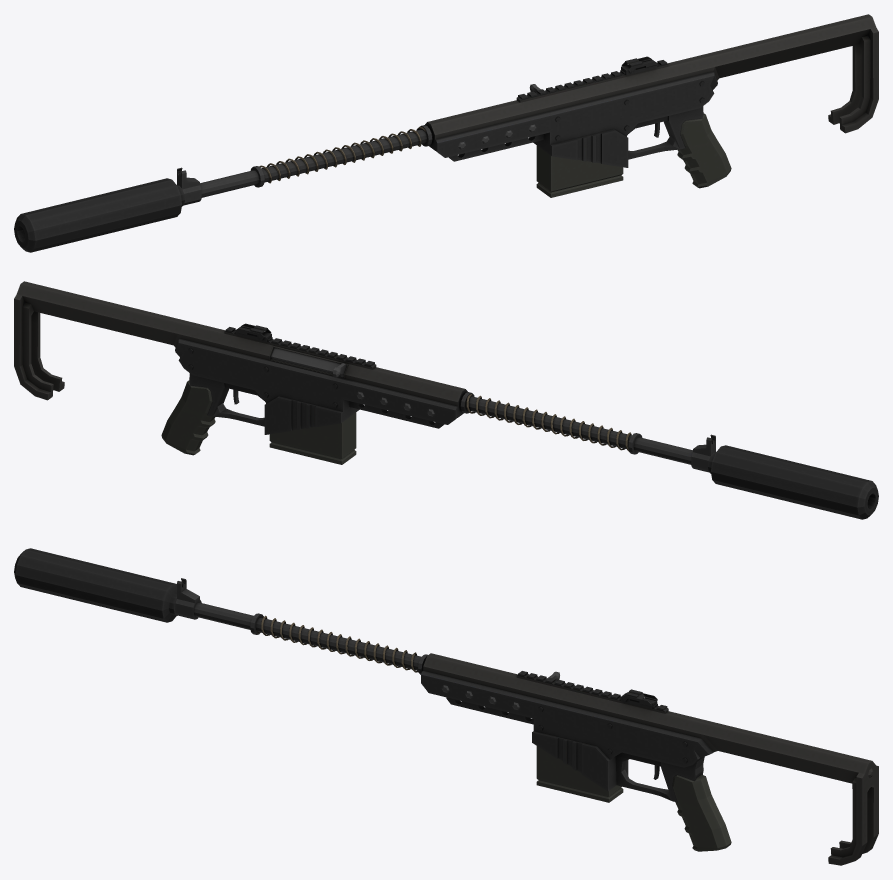
The model's file is Sniper_1.fbx.
3 views of the same model, one above another, from view 1: azimuth 30°, elevation 25°; view 2: azimuth 150°, elevation 25°; view 3: azimuth 330°, elevation 25° (orthographic).
Visible parts, largest first — view 1: sniper_1; view 2: sniper_1; view 3: sniper_1.
Boxes of the visible parts, x1,y1,x2,y2 form: sniper_1: (14,14,878,252); sniper_1: (14,281,878,519); sniper_1: (14,548,878,865).
Size of the model in its own units: 5486 by 879 by 264.
